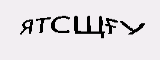Г: (78, 15, 89, 38)
Ж: (91, 18, 105, 40)
К: (52, 15, 75, 39)
Р: (103, 25, 117, 45)
Ч: (32, 13, 51, 37)
